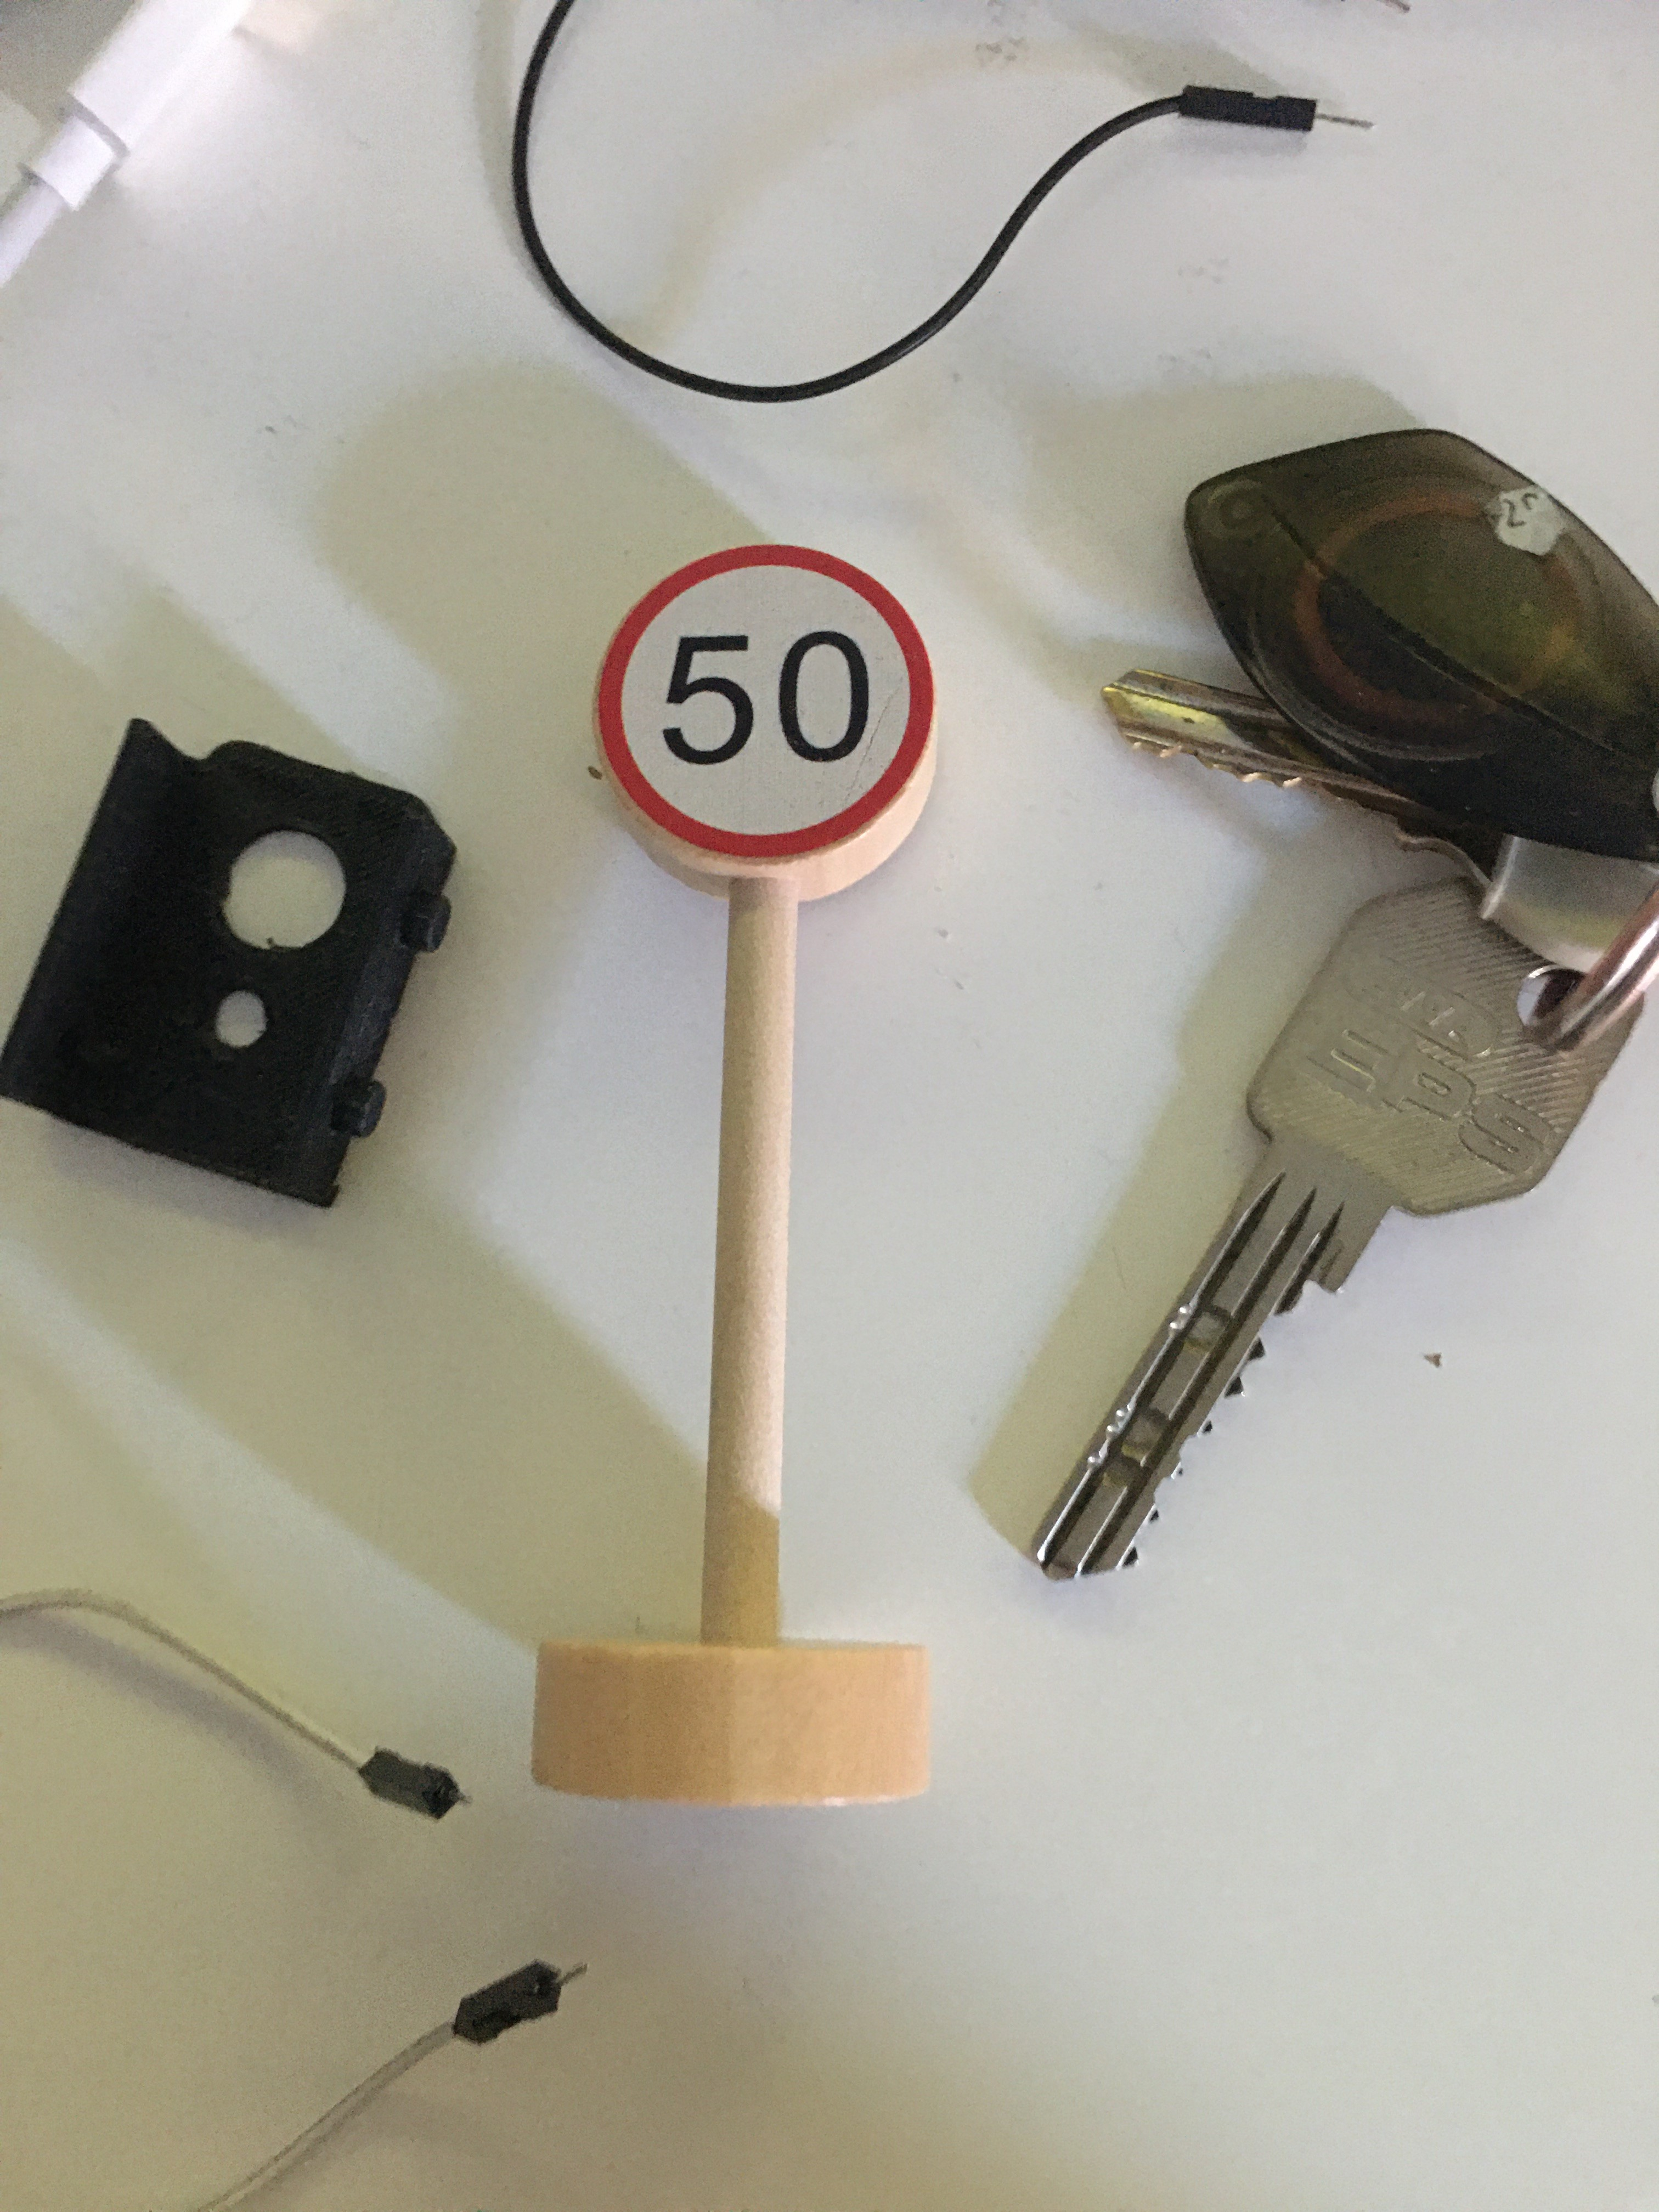Traffic_Sign_50: (592, 543, 936, 876)
